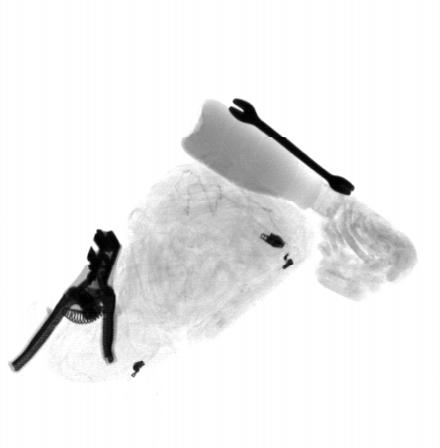Pliers: (8, 228, 124, 374)
Wrench: (227, 97, 357, 199)
